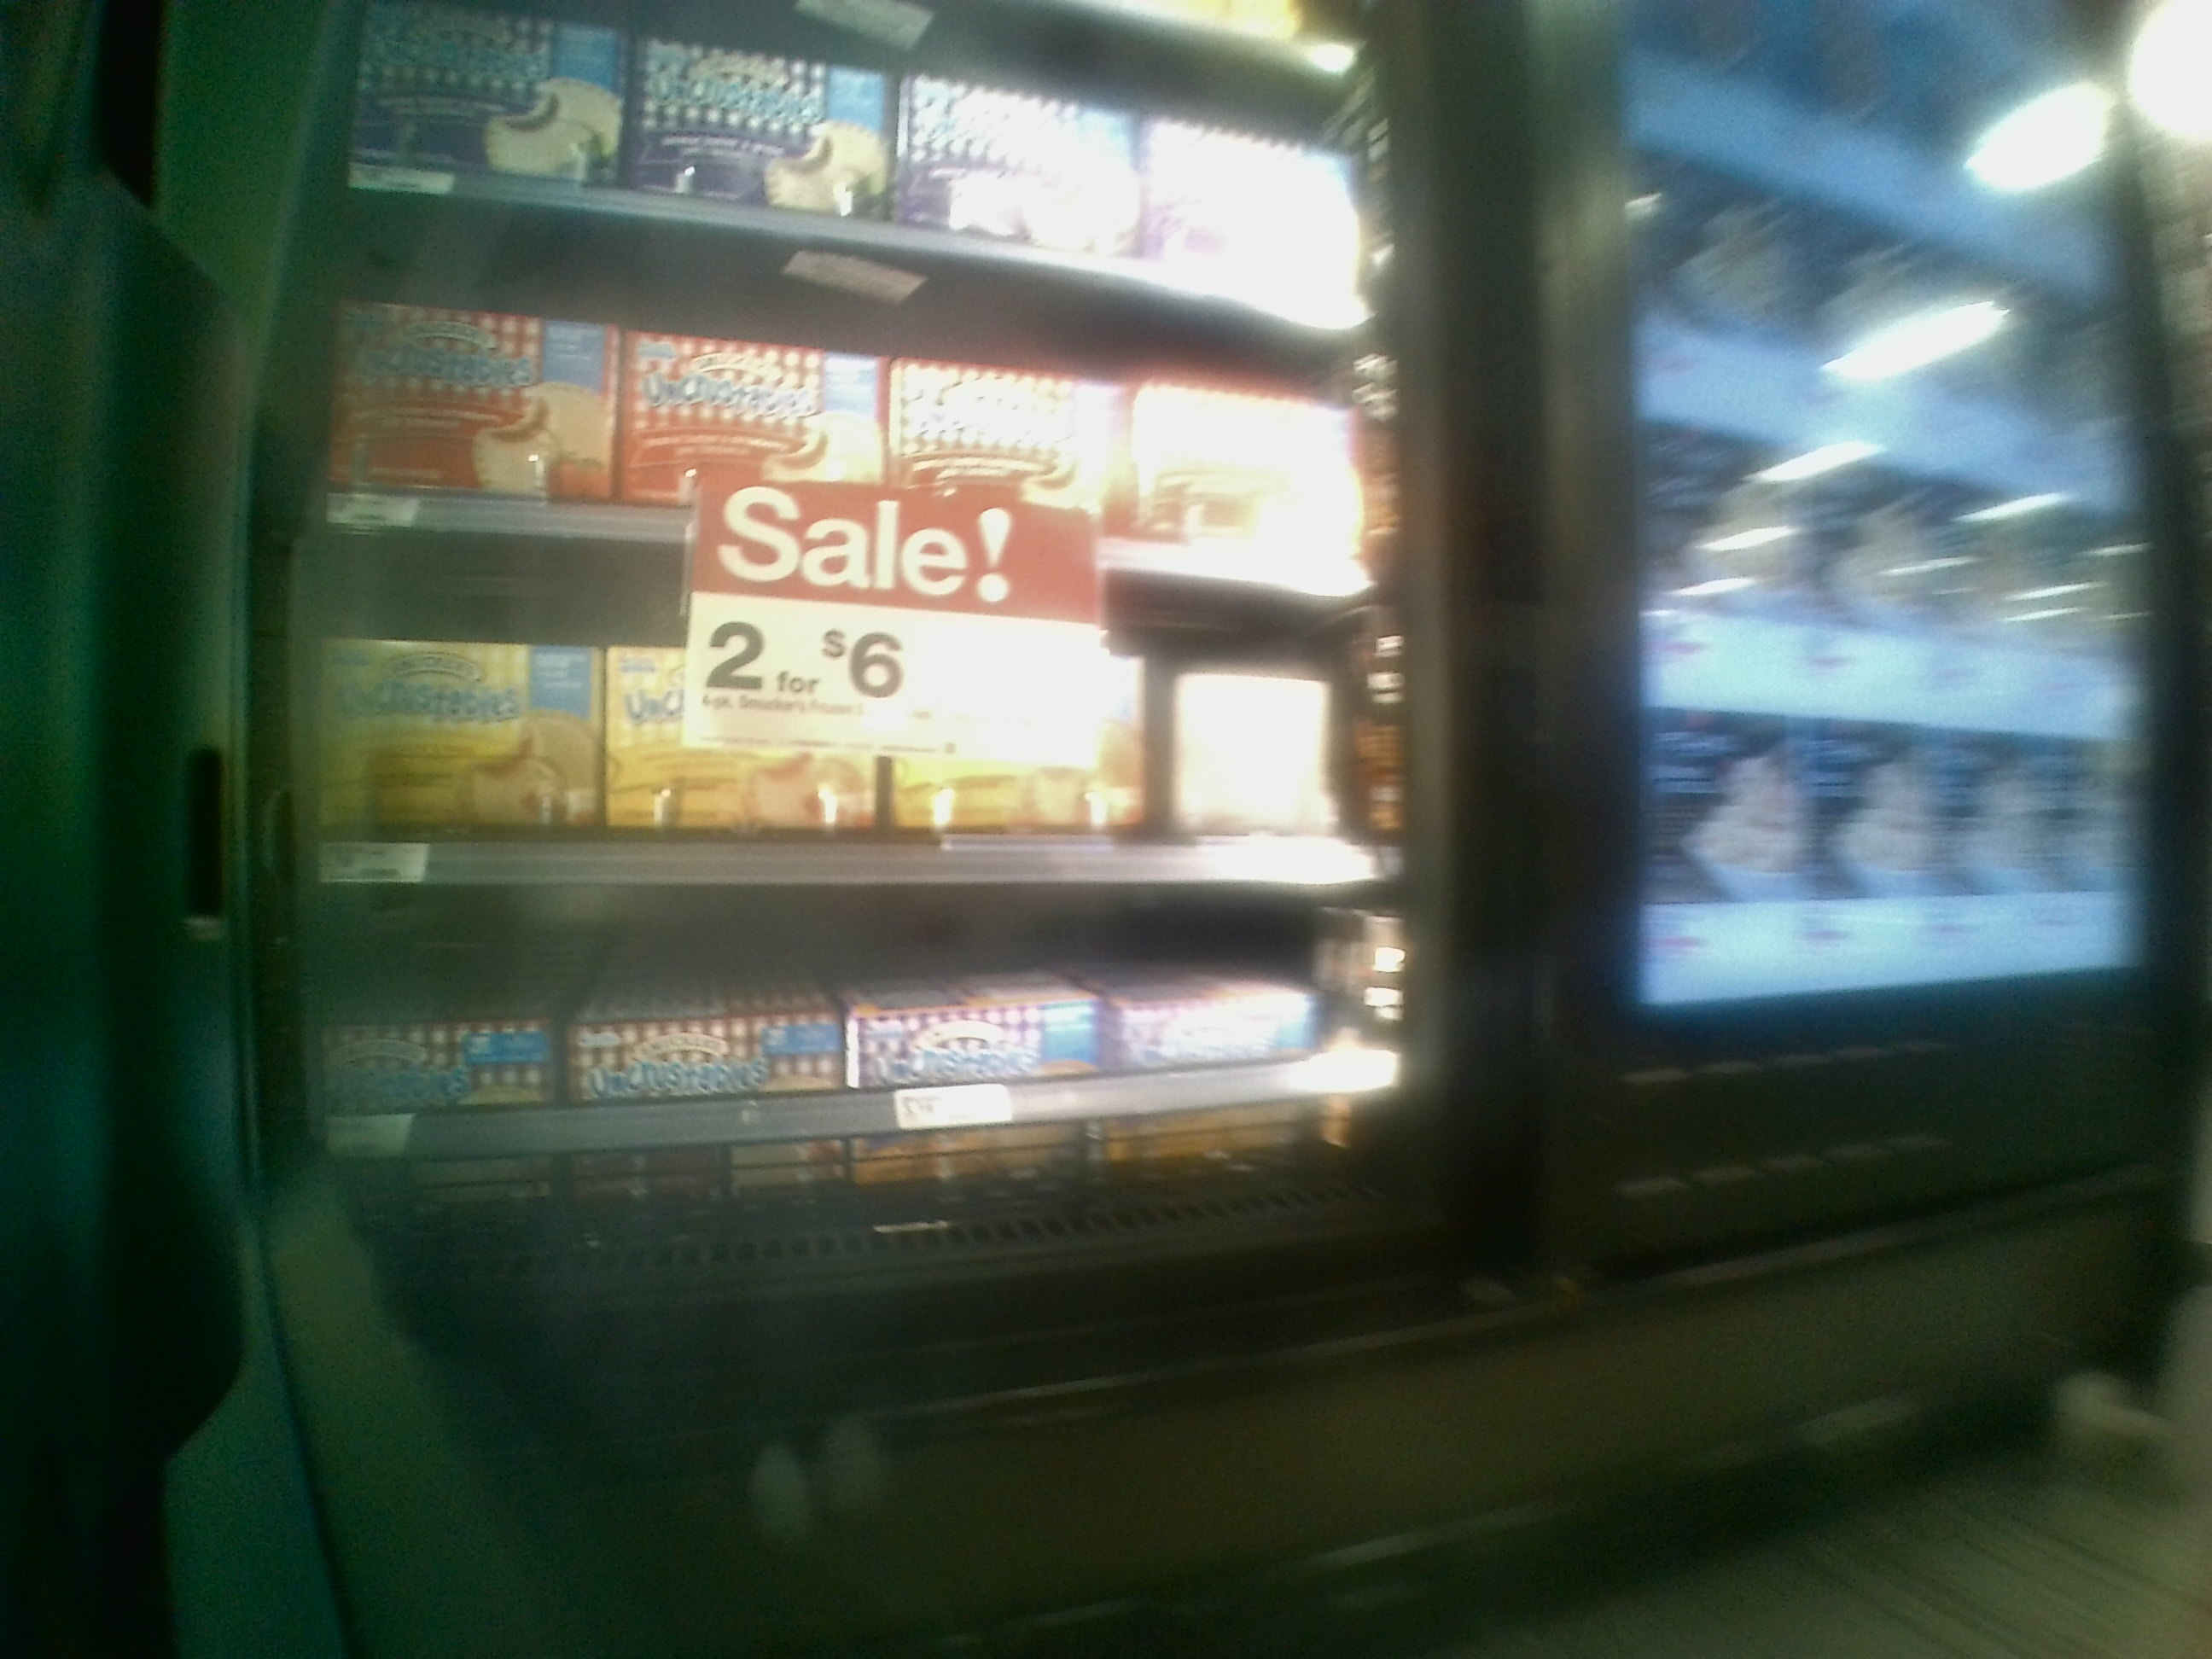shelf: (270, 871, 1454, 1269), (307, 190, 1390, 584), (268, 525, 1399, 875)
